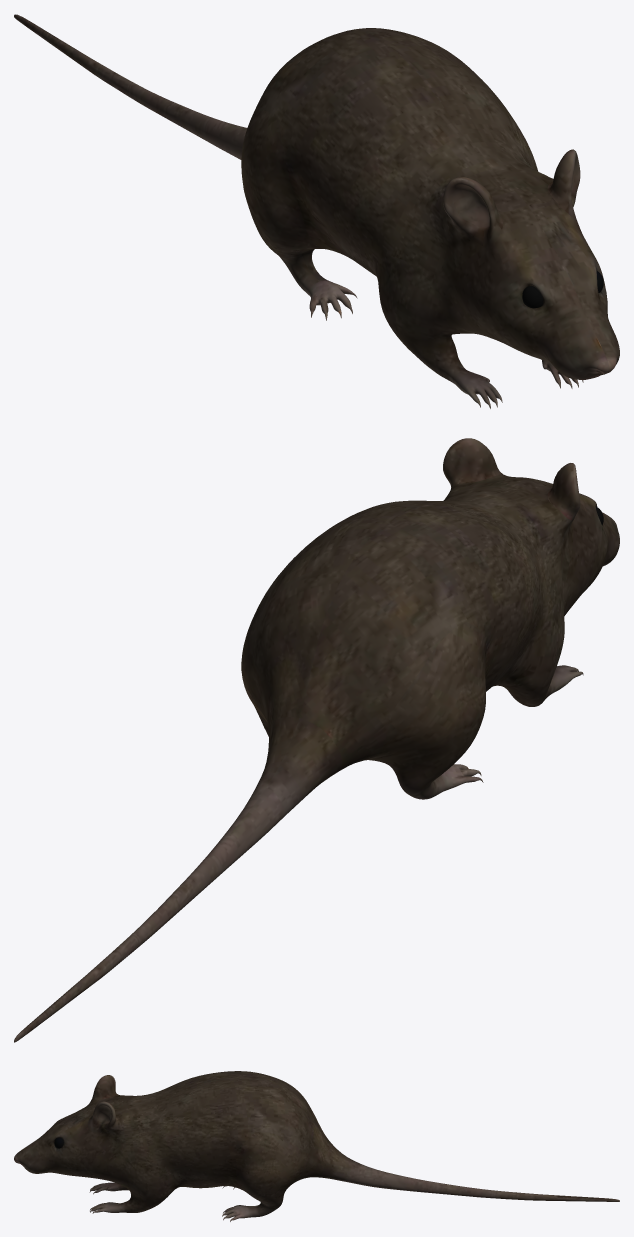
The model's file is street_rat.glb.
3 renders of one model, top to bottom at view 1: azimuth 30°, elevation 25°; view 2: azimuth 150°, elevation 25°; view 3: azimuth 270°, elevation 25°, orthographic. The views are drawn at different scales.
Parts seen in each view (by area): view 1: street_rat; view 2: street_rat; view 3: street_rat.
Part boxes in pixels (x1,y1,x2,y2): street_rat: (14,14,619,408); street_rat: (14,438,619,1042); street_rat: (14,1071,619,1221).
Size of the model in its own units: 0.032 by 0.0339 by 0.1483.
1 material, 1 textured.
